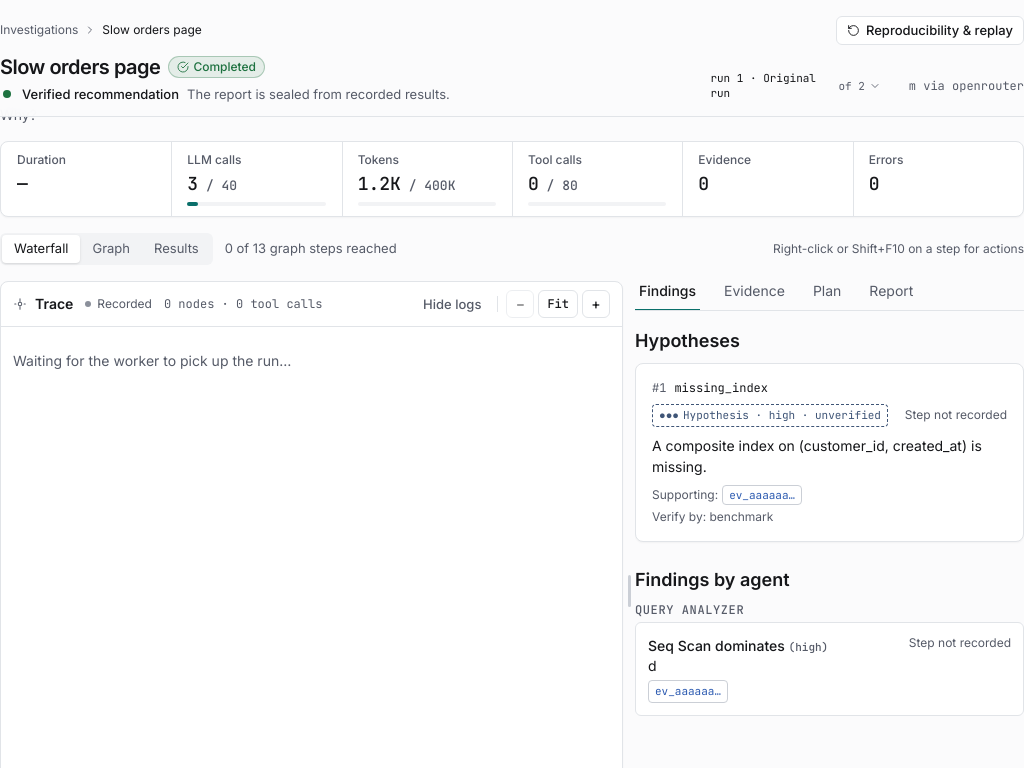
Test: choosing cited evidence opens it on the plan, as an evidence chip does
Expected: the text "Seq Scan dominates" is shown, [648,637,785,654]
Step 1. Press k
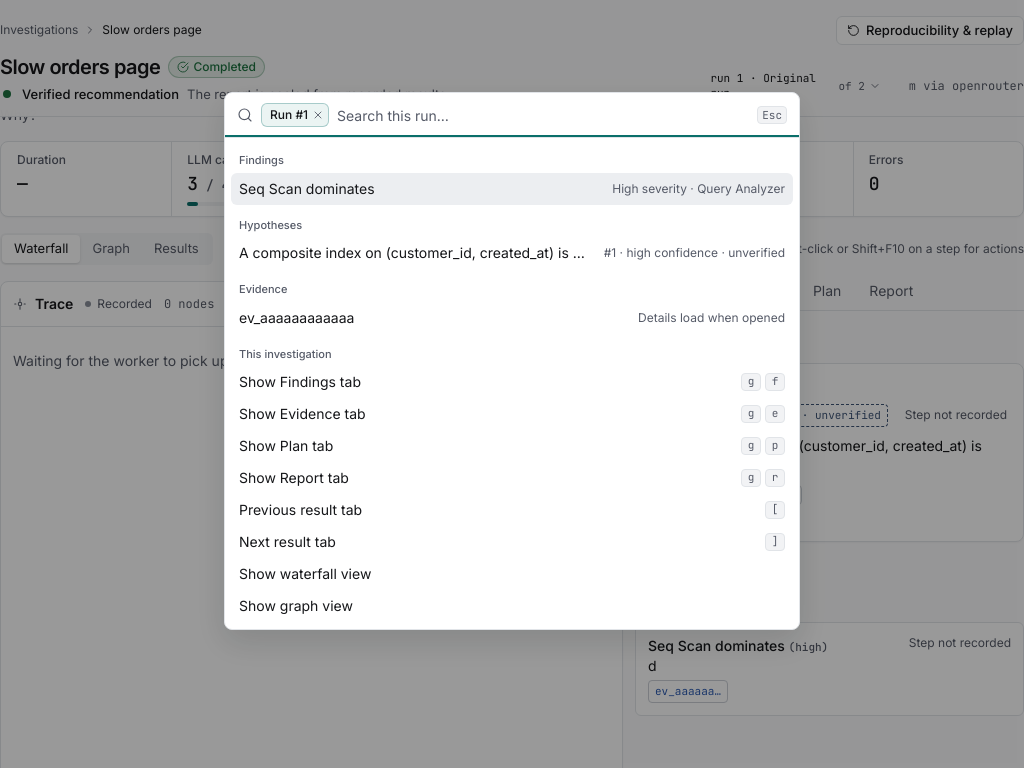
Step 2. Type "ev_aaaa" into the dropdown → point(543, 115), box [337,93,749,137]
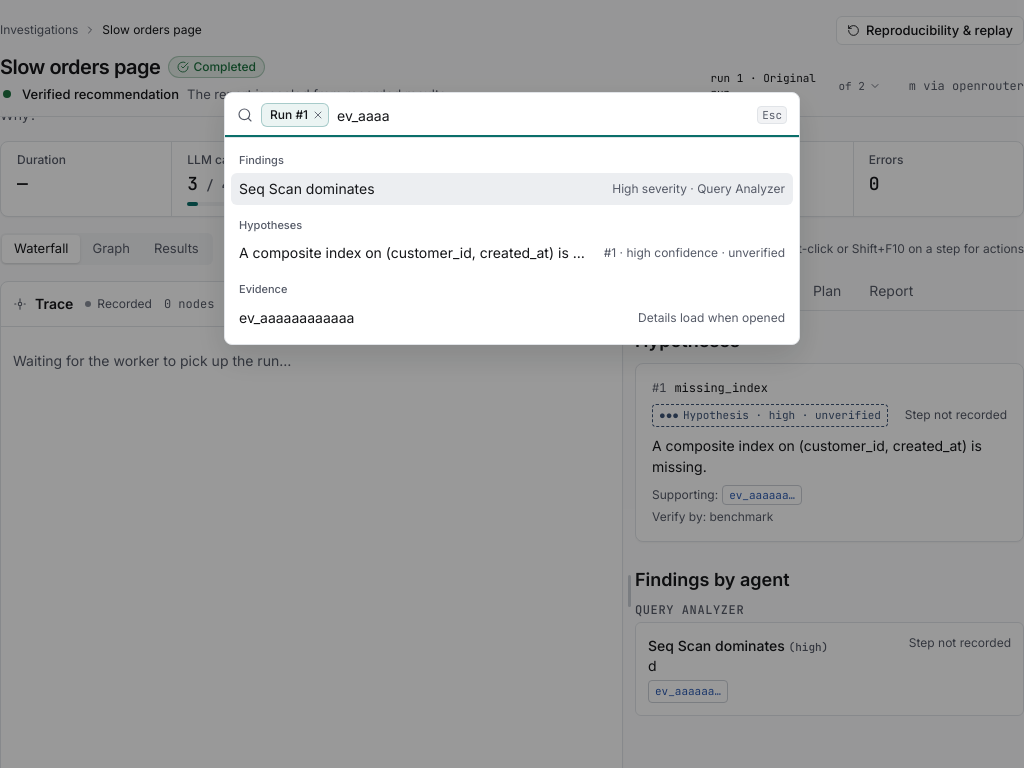
Expected: the element "Findings" is shown, [231,144,793,209]
Step 3. Click the option "ev_aaaaaaaaaaaa Details load when opened" → point(297, 317), box [239,309,785,326]
(page scrolled)
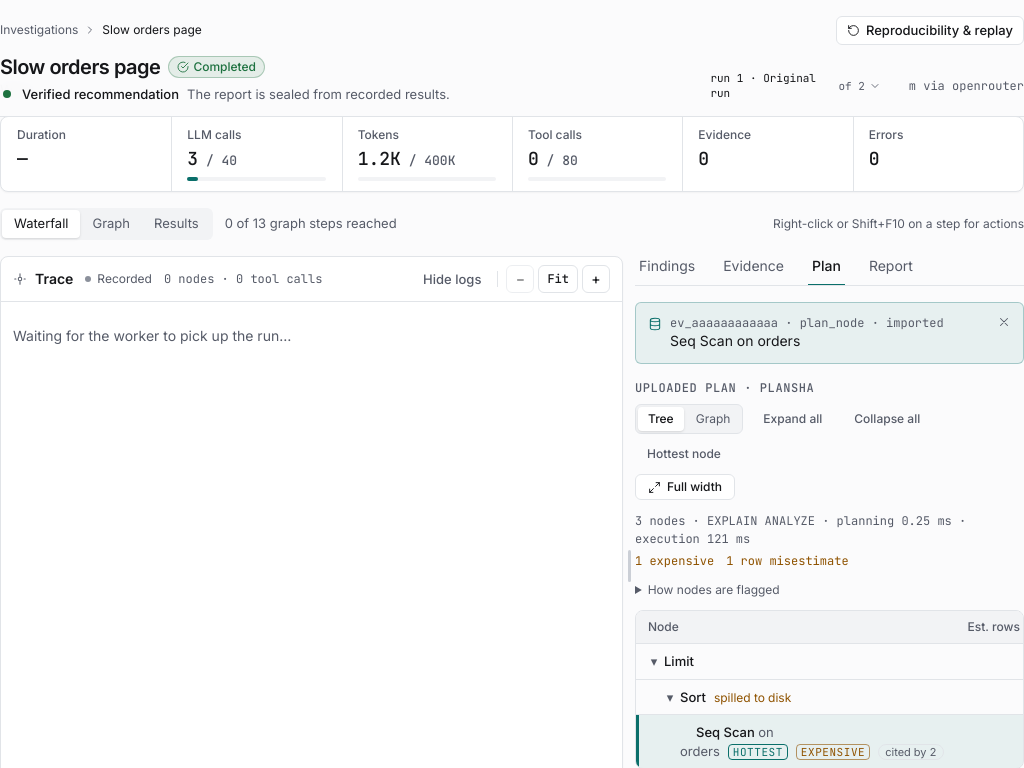
Expected: the element named "Selected evidence" shows "Seq Scan on orders", [670,332,800,349]
